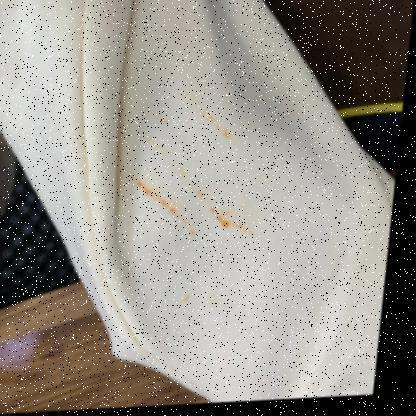kimchi: (127, 174, 153, 197), (208, 113, 229, 135), (214, 211, 237, 230), (155, 196, 175, 217), (186, 288, 199, 302)
